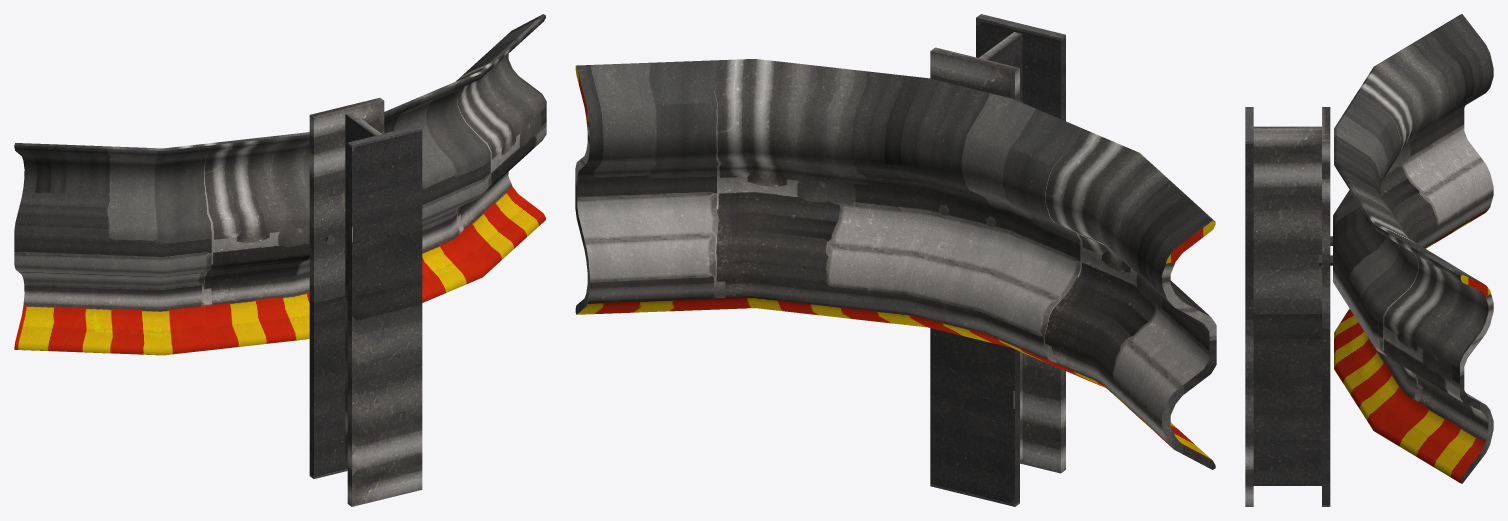
Rendered from Rail 2.FBX.
3 renders of one model, left to right at view 1: azimuth 30°, elevation 25°; view 2: azimuth 150°, elevation 25°; view 3: azimuth 270°, elevation 25°, orthographic. The views are drawn at different scales.
Visible parts, largest first — view 1: guardrail_u_90deg_in; view 2: guardrail_u_90deg_in; view 3: guardrail_u_90deg_in.
Boxes of the visible parts, x1,y1,x2,y2 form: guardrail_u_90deg_in: [14, 14, 546, 506]; guardrail_u_90deg_in: [575, 14, 1216, 506]; guardrail_u_90deg_in: [1245, 14, 1493, 506].
Size of the model in its own units: 155 by 101 by 62.11.
